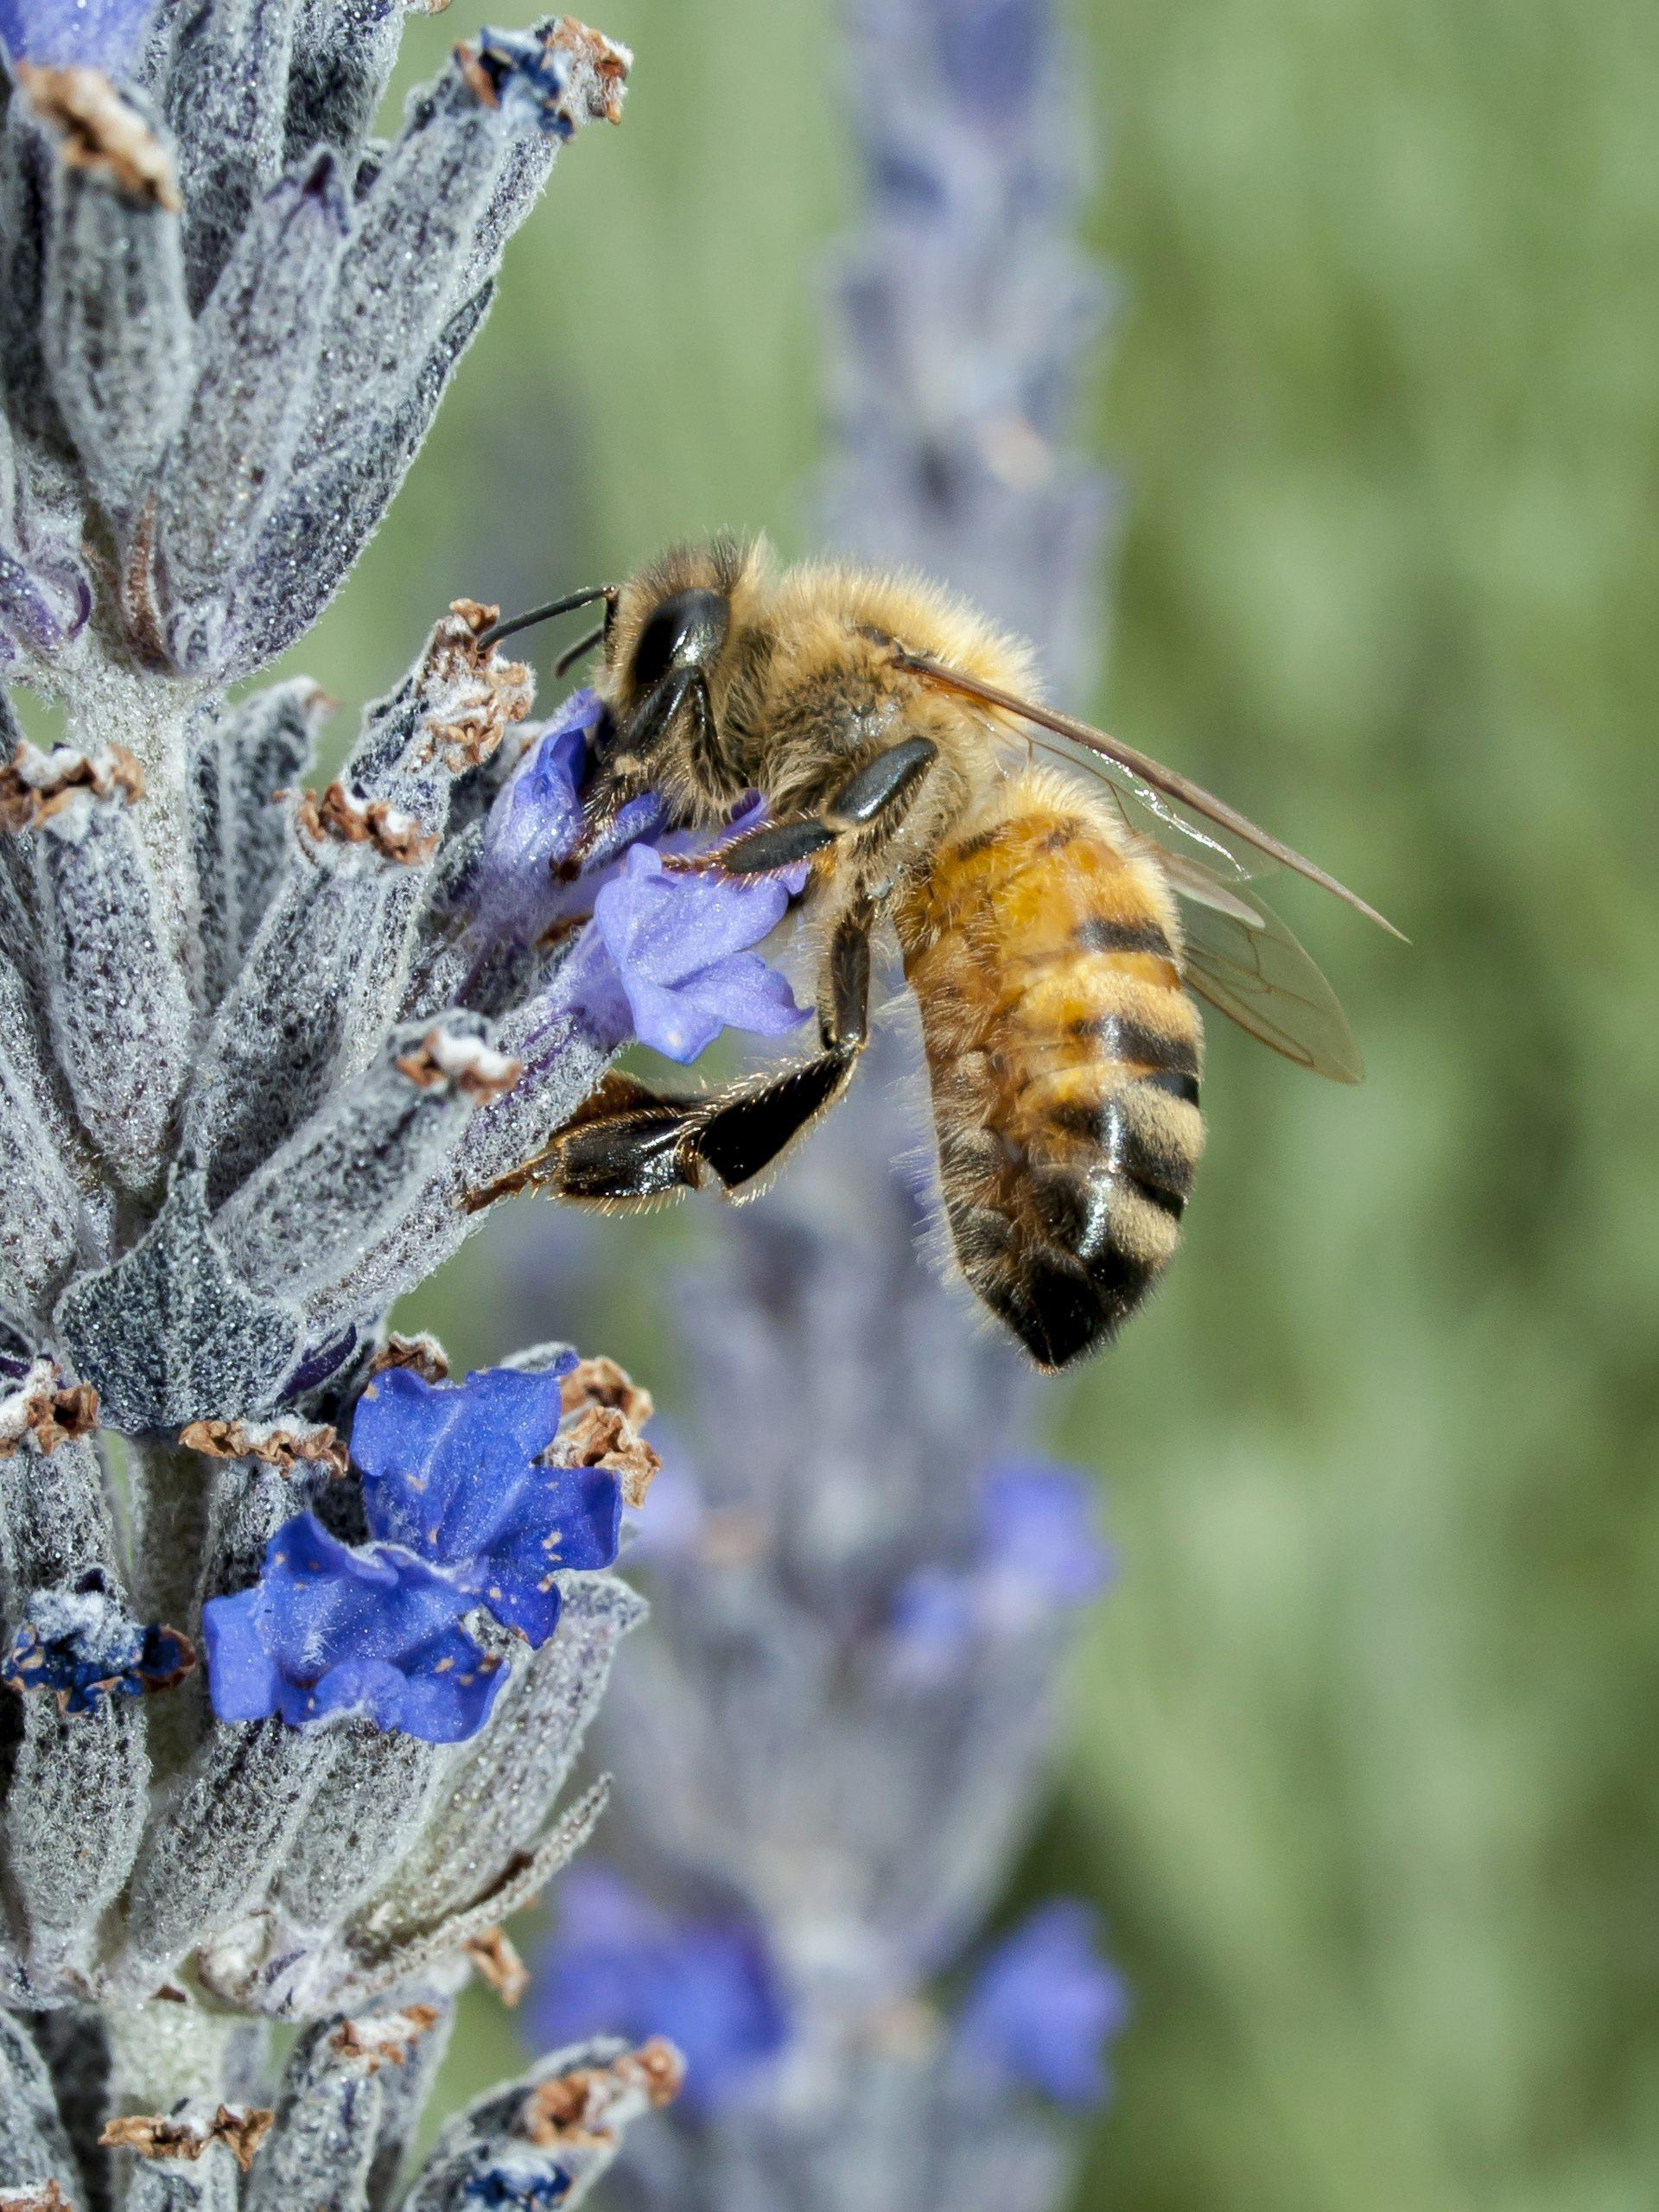Apis-mellifera-scutellata: (486, 516, 1403, 1397)
